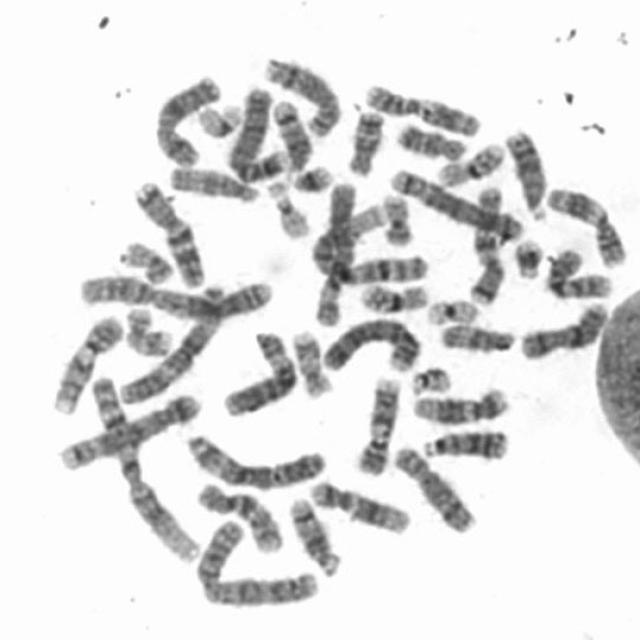A1: (84, 371, 202, 564), (309, 182, 432, 286)
A2: (190, 513, 324, 609), (73, 266, 280, 322)
A3: (114, 278, 227, 406), (181, 427, 329, 491)
B4: (221, 80, 294, 184), (319, 309, 426, 373)
B5: (54, 386, 204, 473), (383, 161, 527, 243)
C10: (189, 476, 286, 556), (540, 242, 617, 300)
C11: (358, 76, 485, 138), (544, 179, 630, 269)
C12: (305, 474, 414, 536), (407, 381, 513, 426)
C6: (311, 192, 377, 328), (218, 324, 301, 418)
C7: (128, 175, 210, 291), (462, 178, 506, 306)
C8: (388, 438, 480, 534), (259, 49, 345, 139)
C9: (45, 308, 126, 416), (350, 370, 404, 476)
D13: (500, 123, 552, 222), (418, 422, 512, 462)
D14: (283, 490, 345, 578), (266, 94, 316, 174)
D15: (163, 159, 262, 205), (435, 317, 519, 355)
E16: (432, 135, 509, 188), (353, 276, 433, 314)
E17: (288, 324, 335, 400), (119, 301, 177, 358)
E18: (390, 116, 469, 162), (340, 103, 387, 178)
F19: (193, 96, 246, 140), (421, 293, 483, 328)
F20: (116, 234, 178, 285), (377, 188, 416, 247)
G21: (509, 232, 546, 282), (286, 158, 336, 195)
G22: (263, 176, 313, 242), (406, 360, 454, 396)
X: (148, 68, 224, 168), (515, 295, 613, 362)
